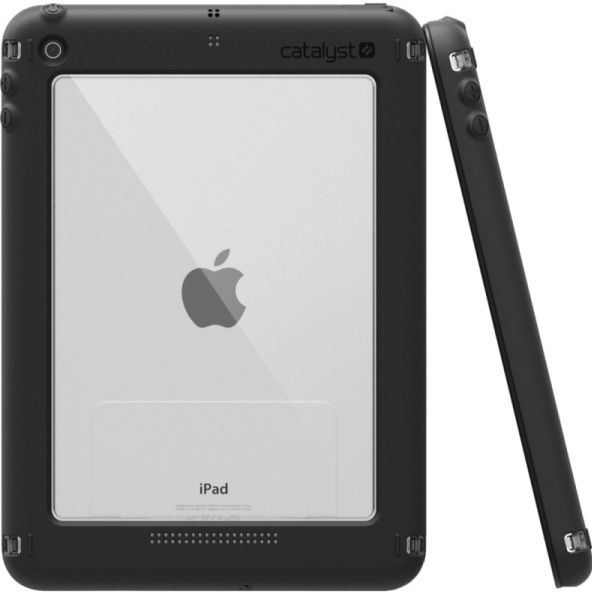apple: (176, 228, 277, 362)
